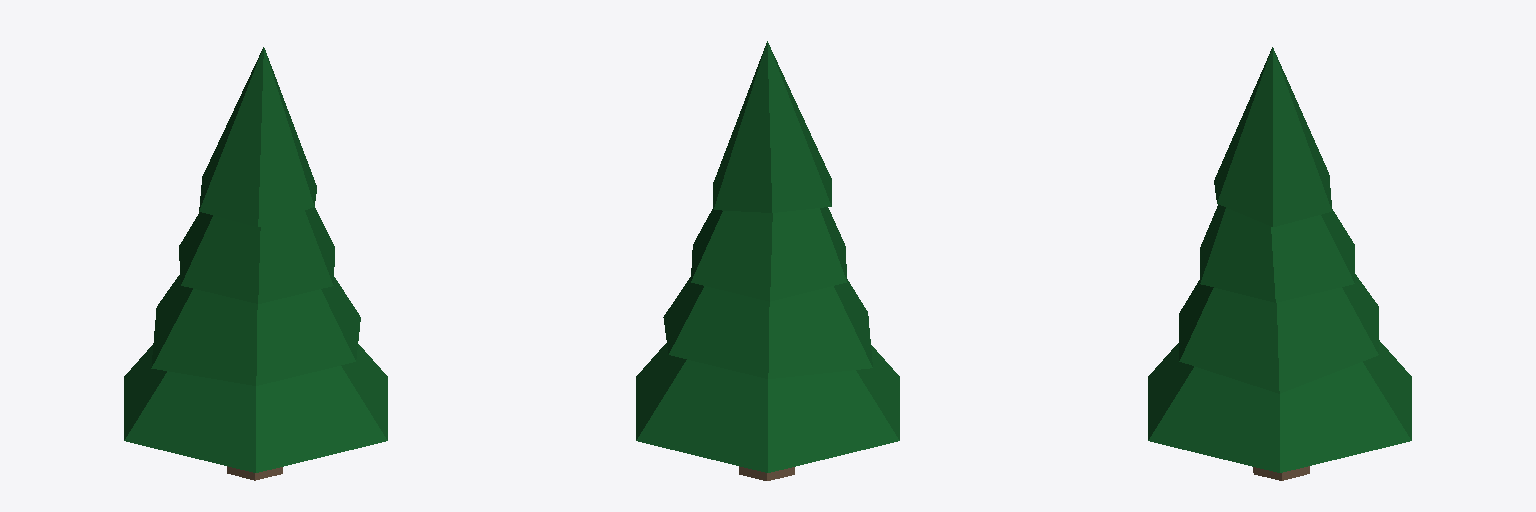
File: Prop_Tree_Pine_2.obj
3 views of the same model, side by side, from view 1: azimuth 30°, elevation 25°; view 2: azimuth 150°, elevation 25°; view 3: azimuth 270°, elevation 25° (orthographic).
Parts seen in each view (by area): view 1: object3, object1, object5, object2; view 2: object3, object1, object2, object5; view 3: object3, object1, object5, object2.
Boxes of the visible parts, x1,y1,x2,y2 form: object3: [124, 344, 387, 472]; object1: [151, 275, 360, 385]; object5: [199, 47, 316, 226]; object2: [179, 207, 334, 303]; object3: [636, 343, 899, 472]; object1: [663, 277, 872, 378]; object2: [691, 207, 846, 301]; object5: [713, 41, 831, 212]; object3: [1148, 340, 1411, 472]; object1: [1179, 274, 1378, 393]; object5: [1214, 47, 1331, 226]; object2: [1200, 204, 1354, 302].
Bounding box in the file's own units: 2.6 × 3.98 × 2.25.